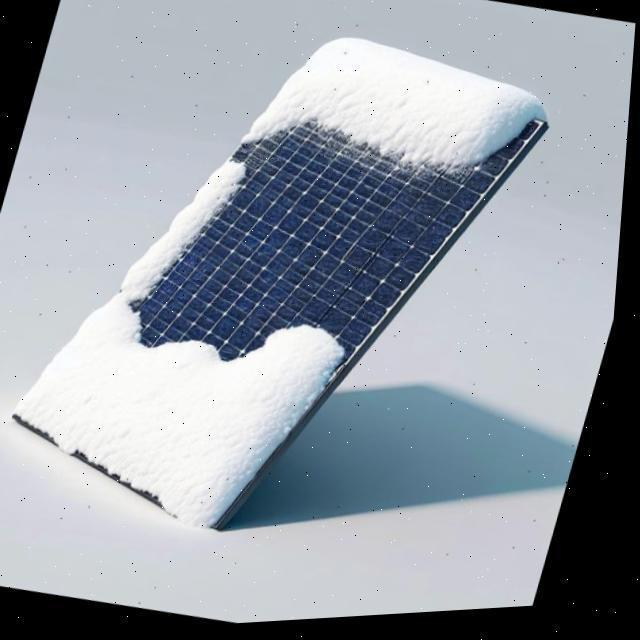Anomaly Solar Panel: (19, 0, 556, 560)
Snow: (18, 0, 558, 555)
